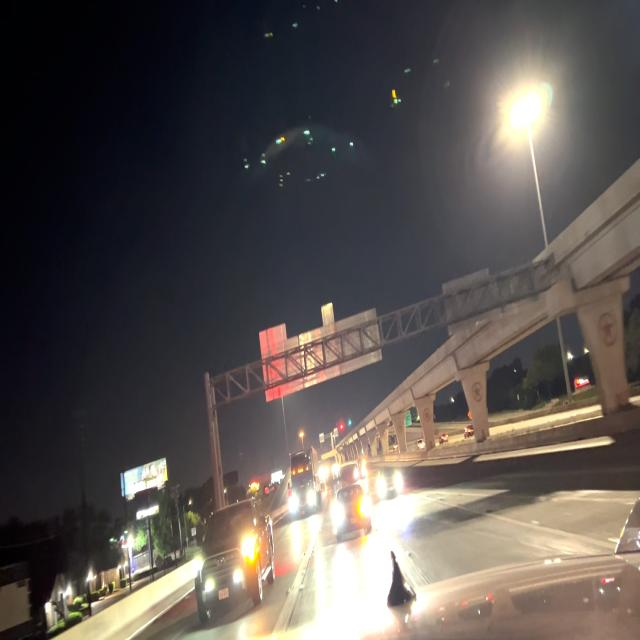back-of-sign: (257, 301, 382, 406), (441, 270, 499, 334)
